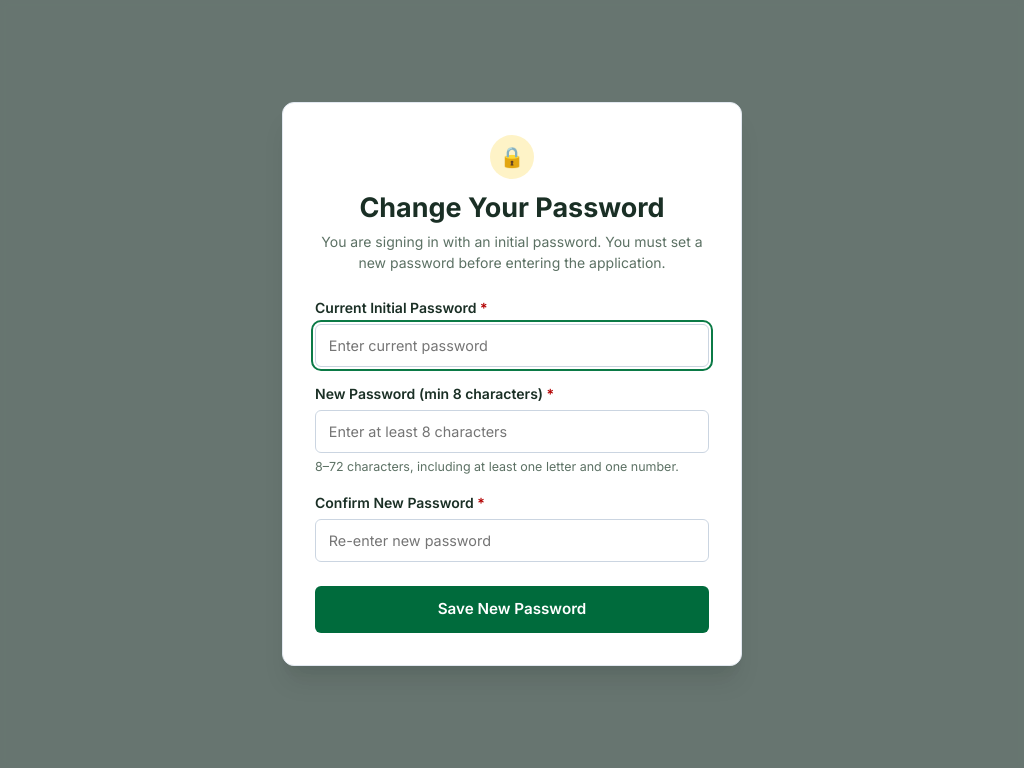
Test: UI-02: ChangePassword Component Tests › should show error if passwords do not match
The width and height of the screenshot is (1024, 768).
In the password field labelled "Current Initial Password *": (512, 346) [315,324,709,367], type "Initial123!"
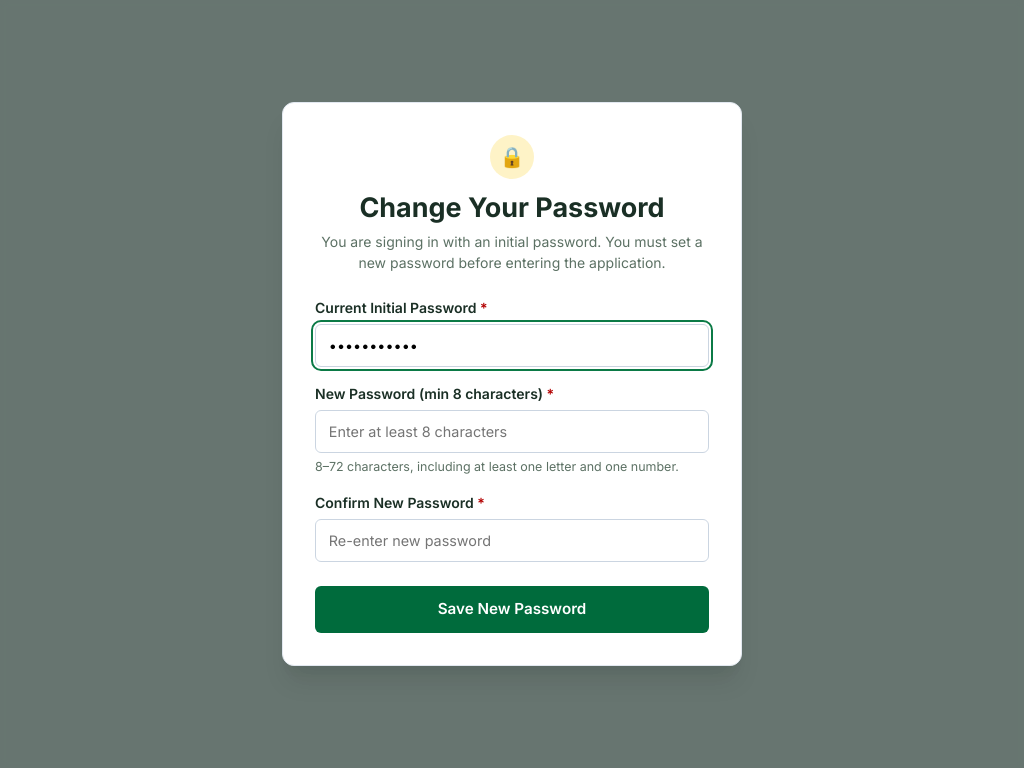
In the password field labelled "New Password (min 8 characters) *": (512, 432) [315,410,709,453], type "BrandNewPass123!"
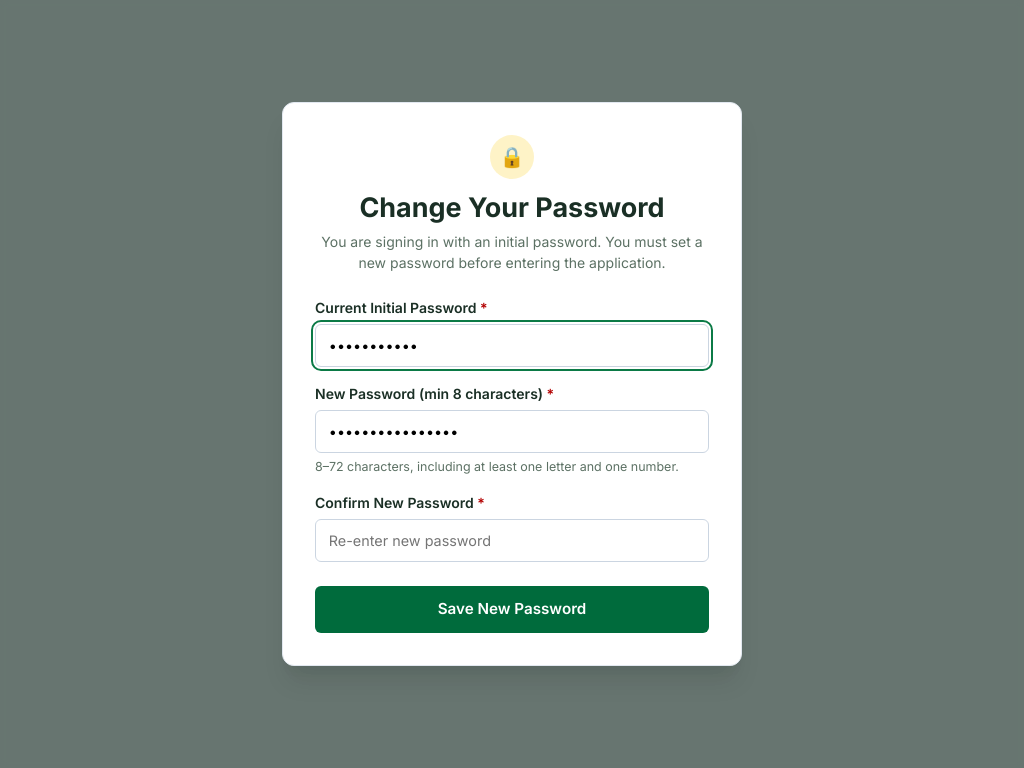
In the password field labelled "Confirm New Password *": (512, 541) [315,519,709,562], type "MismatchPass123!"
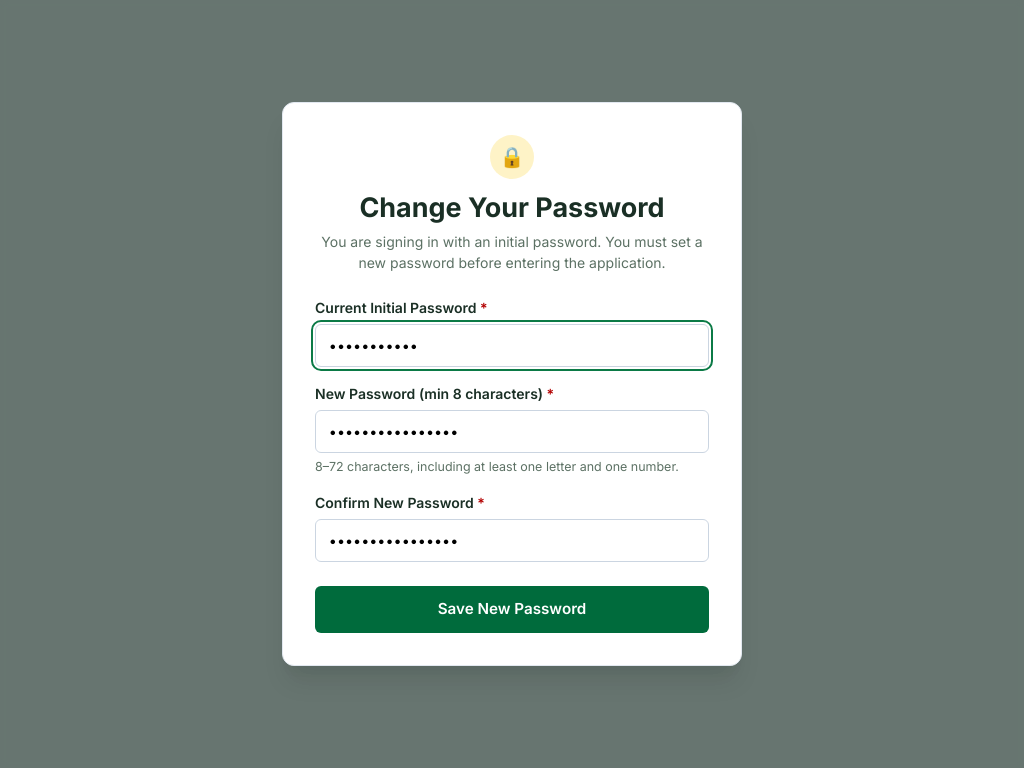
Click the button "Save New Password": click(512, 610) [315,586,709,633]
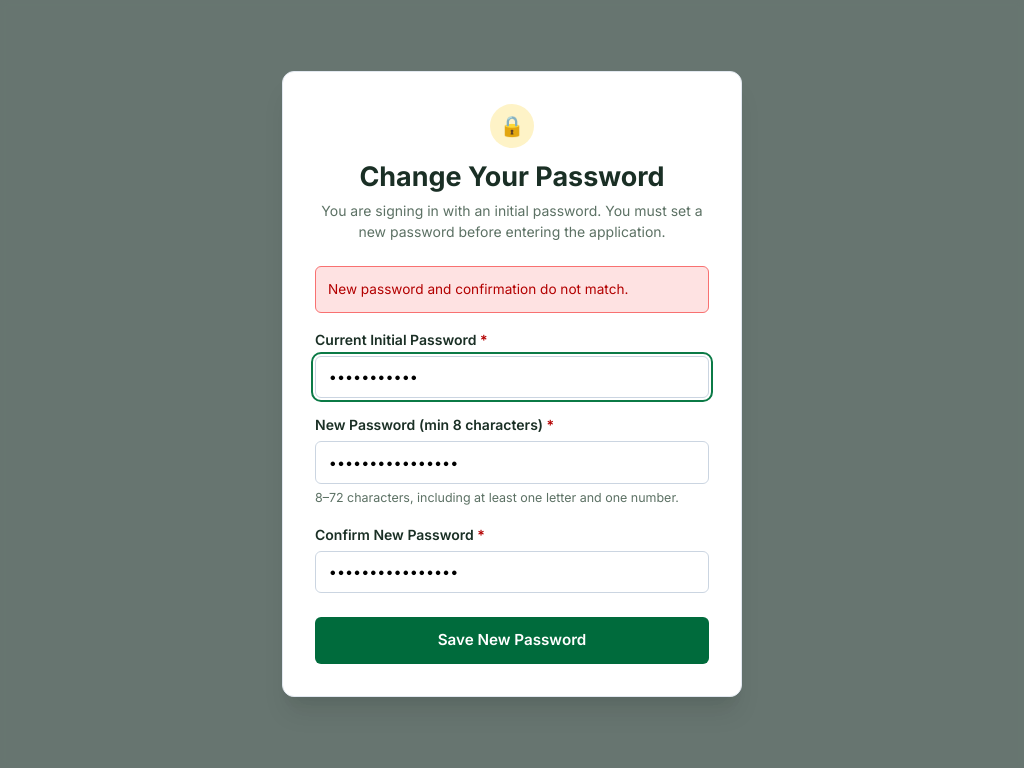
Expected: the message shows "New password and confirmation do not match", [328,281,628,297]
